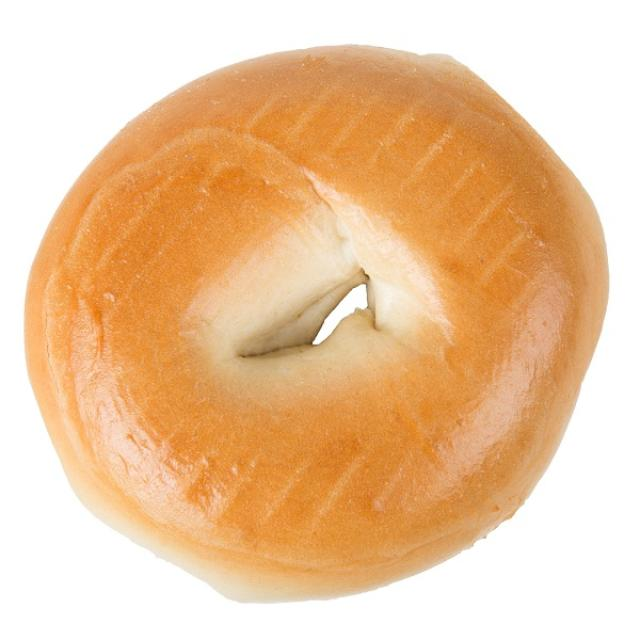Bagel: (26, 48, 608, 599)
